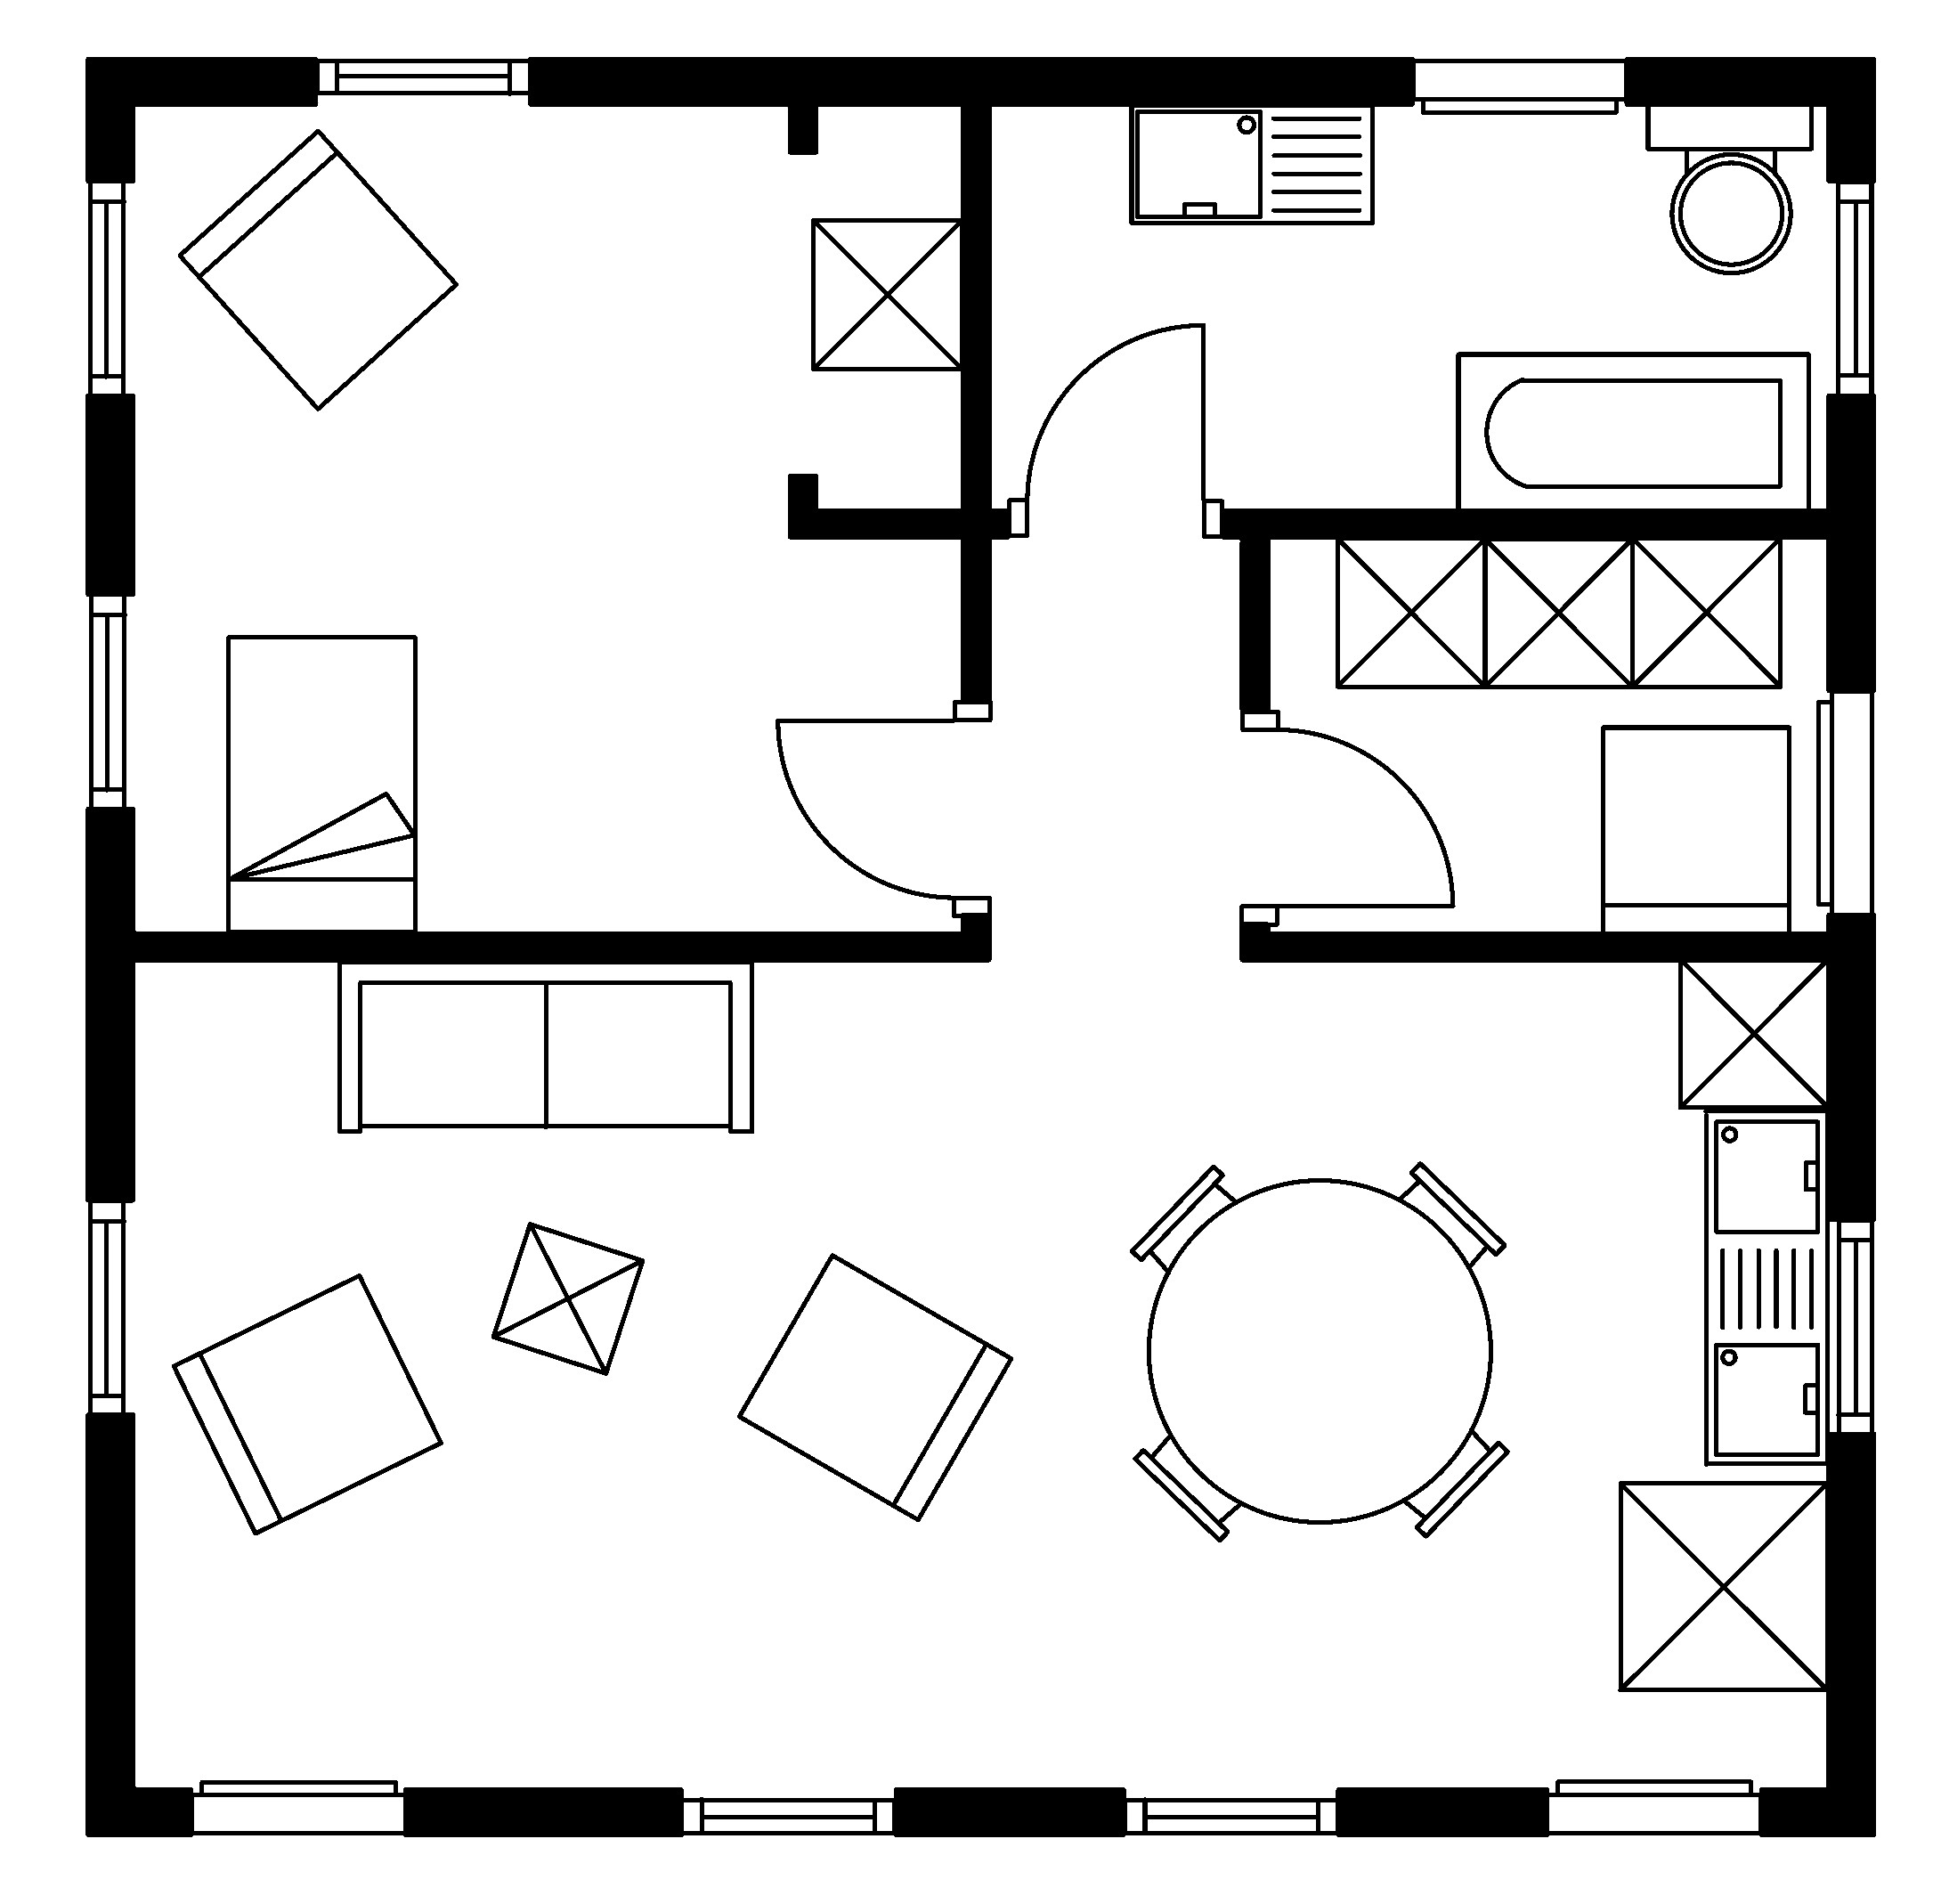bed: (223, 633, 418, 935)
coffee_table: (1616, 1479, 1830, 1693), (809, 216, 966, 371), (488, 1221, 645, 1376), (1480, 534, 1635, 689), (1628, 534, 1783, 689), (1333, 534, 1489, 689), (1675, 955, 1830, 1111)
large_sink: (1644, 101, 1814, 274)
large_sofa: (335, 959, 755, 1135)
round_table: (1128, 1159, 1509, 1543)
sink: (1128, 101, 1375, 225)
small_sofa: (176, 127, 458, 411), (734, 1252, 1013, 1522), (169, 1271, 443, 1536), (1598, 724, 1792, 936)
tub: (1454, 350, 1811, 513)
twin_sink: (1701, 1107, 1830, 1468)
